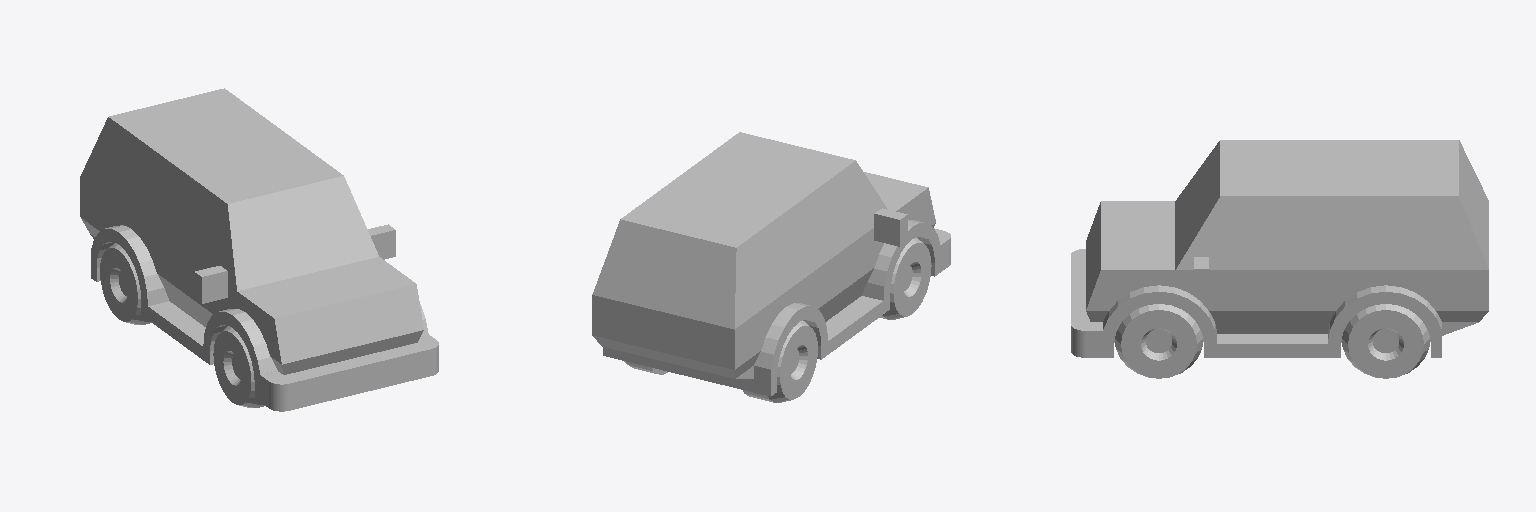
Rendered from taxi.obj.
The picture shows the model from 3 angles: view 1: azimuth 30°, elevation 25°; view 2: azimuth 150°, elevation 25°; view 3: azimuth 270°, elevation 25°; orthographic projection.
Visible parts, largest first — view 1: body, wheel_backRight, wheel_frontRight; view 2: body, wheel_backRight, wheel_frontRight; view 3: body, wheel_frontLeft, wheel_backLeft.
Part boxes in pixels (x1,y1,x2,y2): body: (80, 88, 438, 411); wheel_backRight: (100, 243, 151, 324); wheel_frontRight: (213, 326, 264, 407); body: (592, 132, 950, 396); wheel_backRight: (743, 320, 817, 402); wheel_frontRight: (879, 237, 931, 319); body: (1071, 140, 1488, 357); wheel_frontLeft: (1115, 304, 1202, 378); wheel_backLeft: (1342, 304, 1429, 378).
Size of the model in its own units: 1.12 by 0.975 by 2.1.